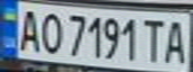1: (84, 12, 106, 59), (121, 15, 142, 61)
7: (63, 11, 87, 57)
9: (103, 13, 124, 60)
A: (160, 16, 193, 64), (12, 6, 42, 53)
O: (36, 9, 66, 55)
T: (139, 16, 169, 63)
